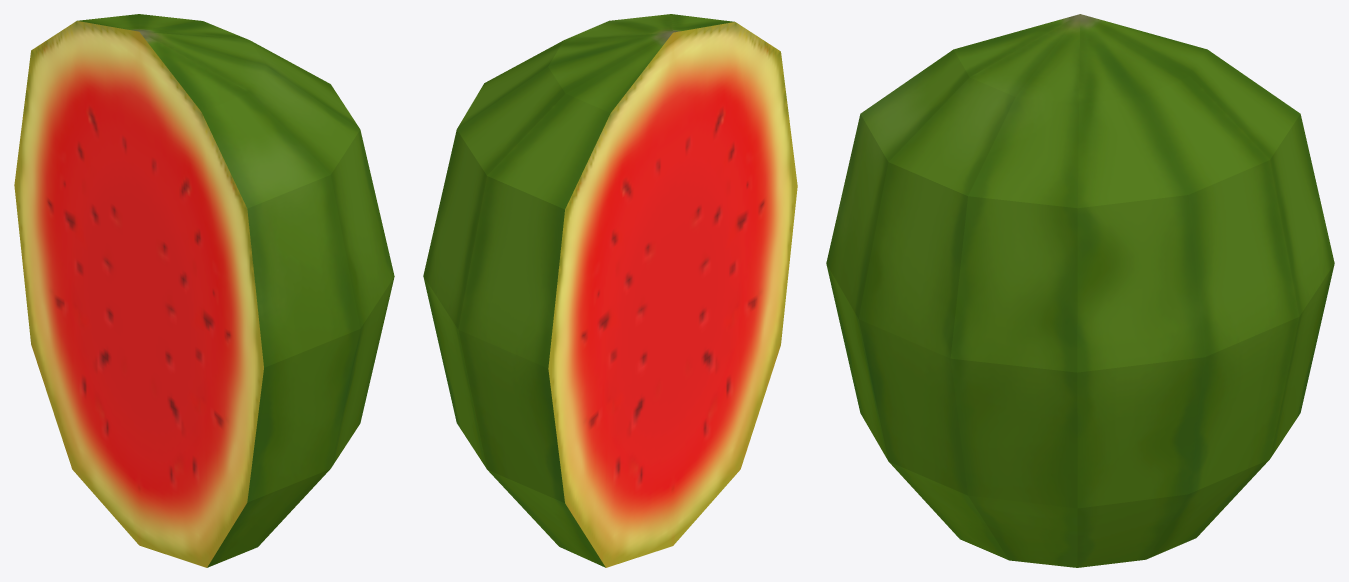
File: melon_half.gltf
3 views of the same model, side by side, from view 1: azimuth 30°, elevation 25°; view 2: azimuth 150°, elevation 25°; view 3: azimuth 270°, elevation 25° (orthographic).
Visible parts, largest first — view 1: fruis_and_vegetables.007; view 2: fruis_and_vegetables.007; view 3: fruis_and_vegetables.007.
Boxes of the visible parts, bbox=[...] form: fruis_and_vegetables.007: bbox=[14, 14, 394, 567]; fruis_and_vegetables.007: bbox=[423, 14, 797, 567]; fruis_and_vegetables.007: bbox=[826, 14, 1334, 567].
Size of the model in its own units: 0.2052 by 0.4586 by 0.4038.
Materials: 1 (1 with a texture image).
